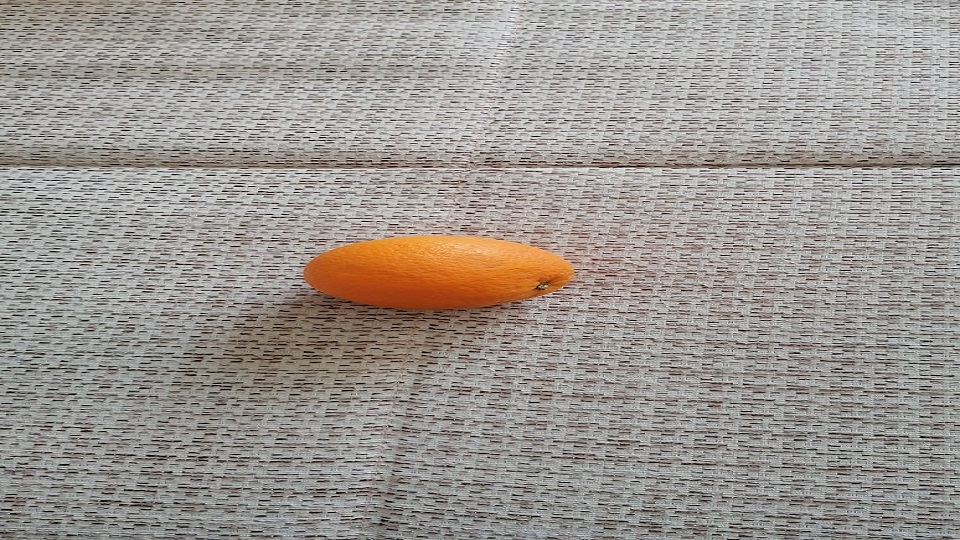portakal: (303, 234, 575, 311)
